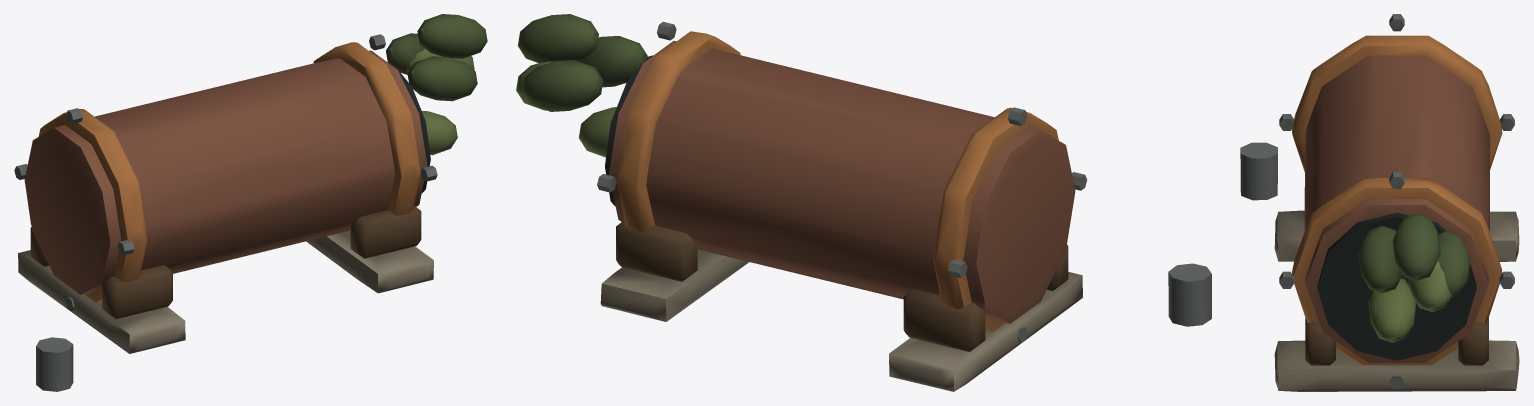
Rendered from pipe_section_b_lod1.glb.
3 views of the same model, side by side, from view 1: azimuth 30°, elevation 25°; view 2: azimuth 150°, elevation 25°; view 3: azimuth 270°, elevation 25° (orthographic). The views are drawn at different scales.
Parts seen in each view (by area): view 1: Surface.001; view 2: Surface.001; view 3: Surface.001.
Part boxes in pixels (bbox=[...]): Surface.001: bbox=[14, 14, 487, 391]; Surface.001: bbox=[516, 14, 1211, 391]; Surface.001: bbox=[1240, 14, 1519, 391].
Bounding box in the file's own units: 4.19 × 1.58 × 1.82.
